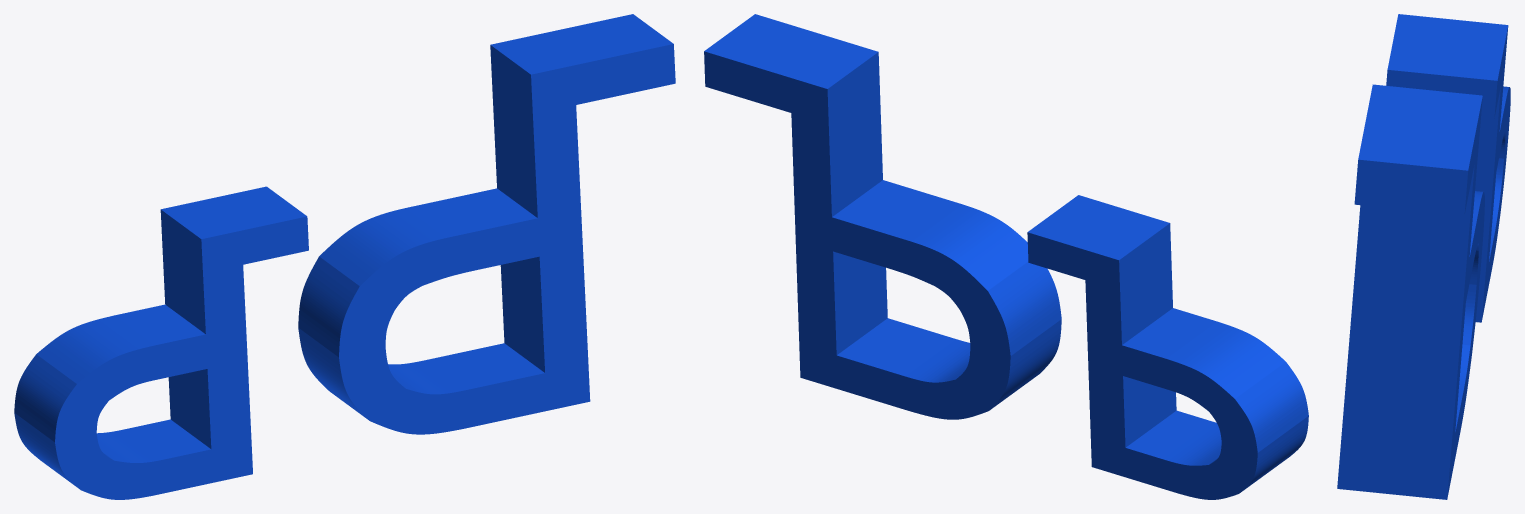
File: tverdyi.gltf
The picture shows the model from 3 angles, left to right: view 1: azimuth 30°, elevation 25°; view 2: azimuth 150°, elevation 25°; view 3: azimuth 270°, elevation 25°; orthographic projection. The views are drawn at different scales.
Parts seen in each view (by area): view 1: Mesh_0.032; view 2: Mesh_0.032; view 3: Mesh_0.032.
Part boxes in pixels (x1,y1,x2,y2): Mesh_0.032: (14,14,675,499); Mesh_0.032: (704,14,1308,499); Mesh_0.032: (1337,14,1510,499).
Size of the model in its own units: 13.84 by 7.41 by 2.94.
